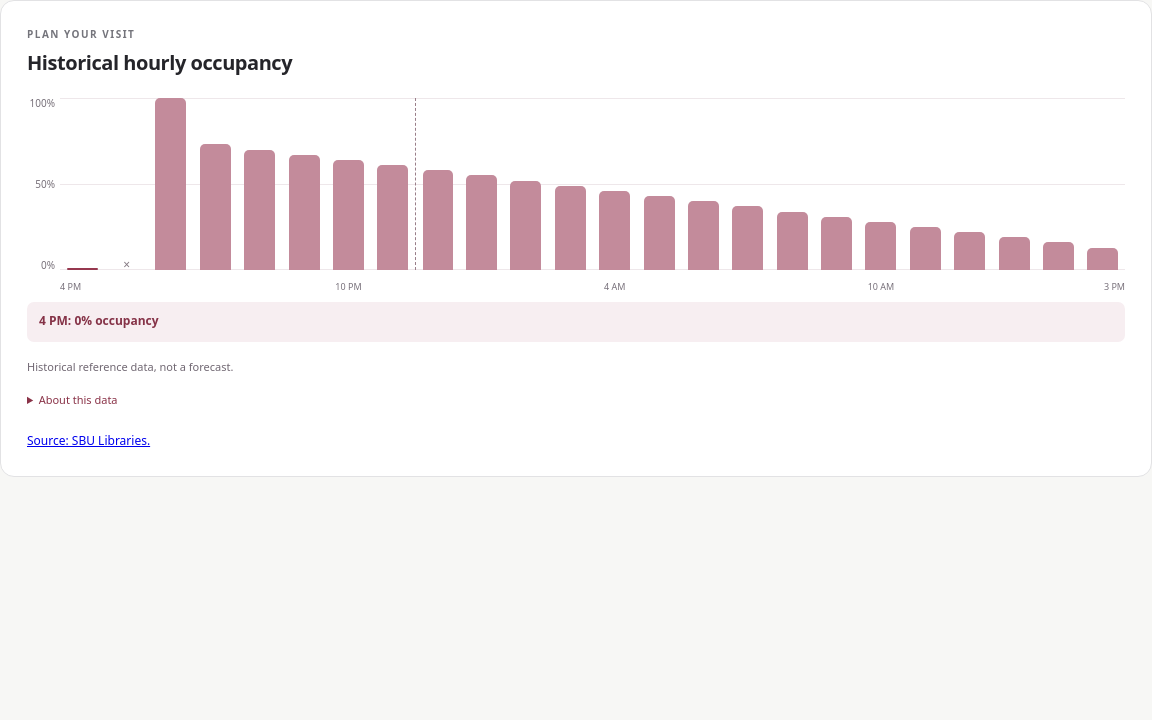
it: concise copy keeps technical detail collapsed until About this data is opened
Expected: the element named "Hourly historical occupancy" is shown, top-left (27, 98), bottom-right (1125, 270)
Expected: the text "Historical reference data, not a forecast." is shown, top-left (27, 359), bottom-right (233, 374)
Click the heading "About this data": [78, 399] box top-left (39, 392), bottom-right (118, 407)
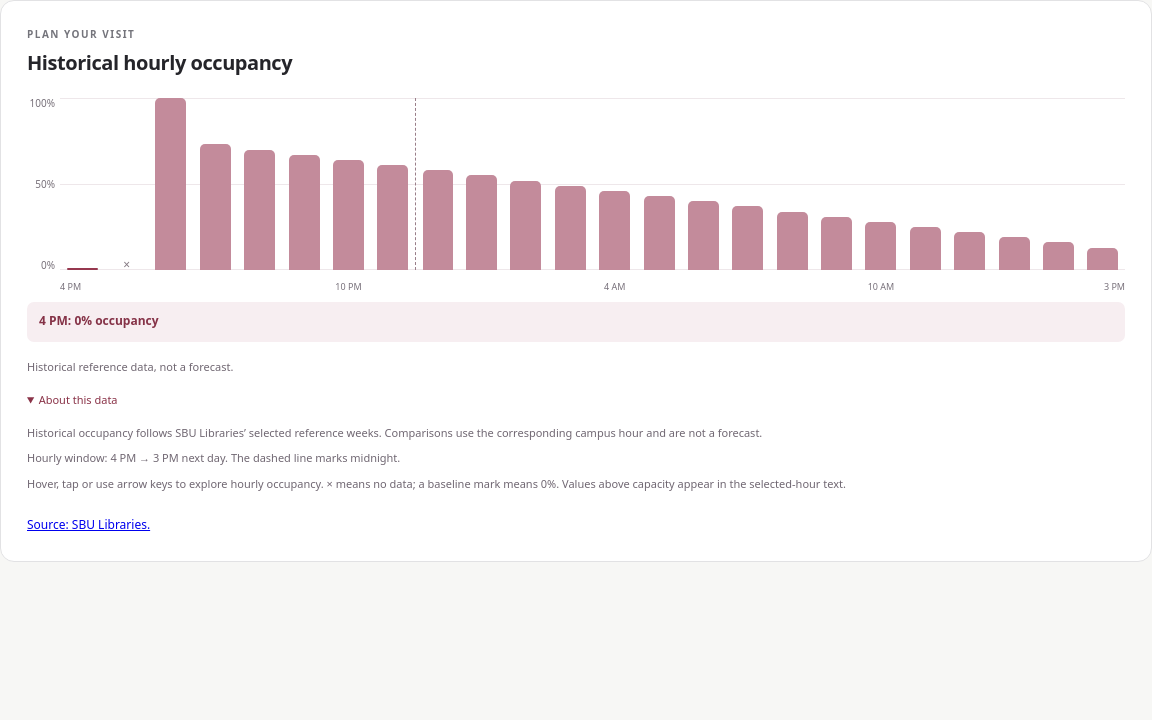
Expected: the text "Historical occupancy follows SBU Libraries’ selected reference weeks" is shown, top-left (27, 425), bottom-right (762, 440)
Expected: the text "× means no data; a baseline mark means 0%" is shown, top-left (27, 476), bottom-right (846, 491)
Expected: the text "Hourly window:" is shown, top-left (27, 450), bottom-right (110, 465)
